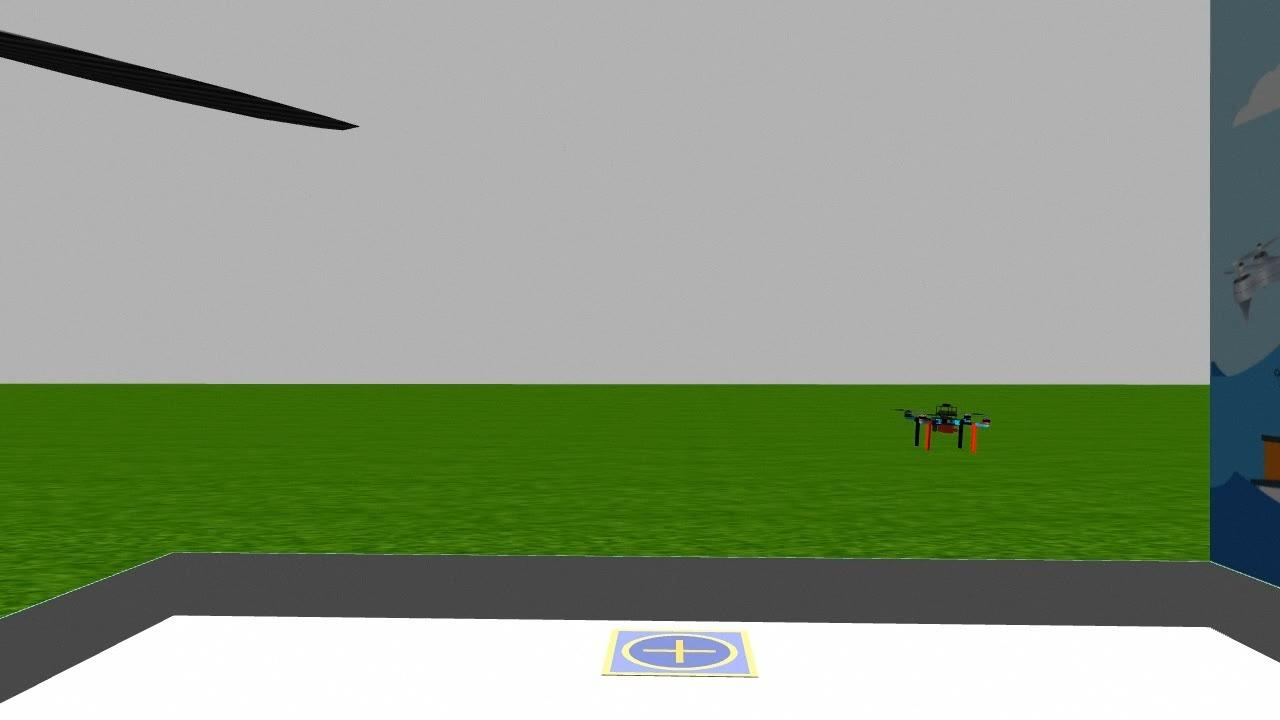UAV: (898, 391, 996, 463)
